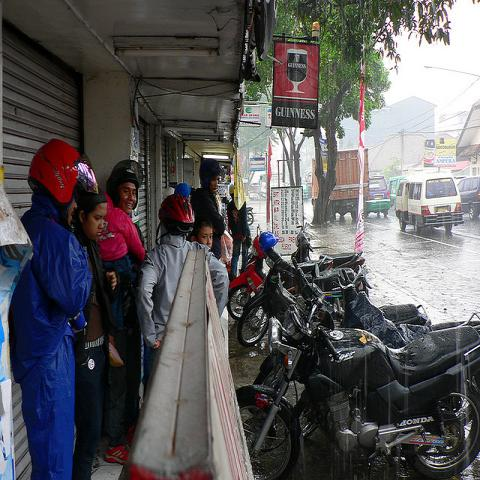car: (395, 172, 464, 235), (367, 176, 391, 218), (457, 177, 479, 221), (388, 175, 406, 211), (301, 182, 308, 198), (306, 182, 312, 199)
motorcycle: (236, 252, 480, 474), (340, 263, 433, 339), (238, 250, 300, 347), (226, 224, 266, 320), (308, 266, 360, 291)
truck: (311, 148, 371, 222)
